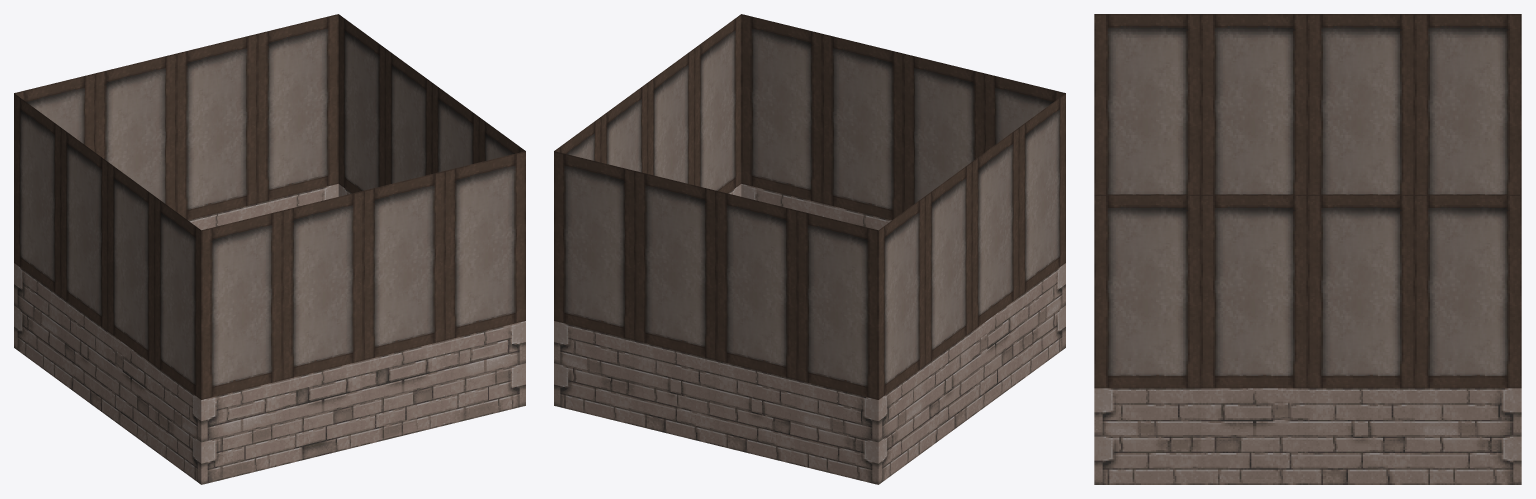
Rendered from shell_base.glb.
The picture shows the model from 3 angles, left to right: view 1: azimuth 30°, elevation 25°; view 2: azimuth 150°, elevation 25°; view 3: azimuth 270°, elevation 25°; orthographic projection. The views are drawn at different scales.
Parts seen in each view (by area): view 1: plaster_wall_stone_base; view 2: plaster_wall_stone_base; view 3: plaster_wall_stone_base.
Part boxes in pixels (bbox=[...]): plaster_wall_stone_base: bbox=[14, 14, 525, 484]; plaster_wall_stone_base: bbox=[554, 14, 1065, 484]; plaster_wall_stone_base: bbox=[1094, 14, 1521, 484].
Bounding box in the file's own units: 4 × 3 × 4.
1 material, 1 textured.
